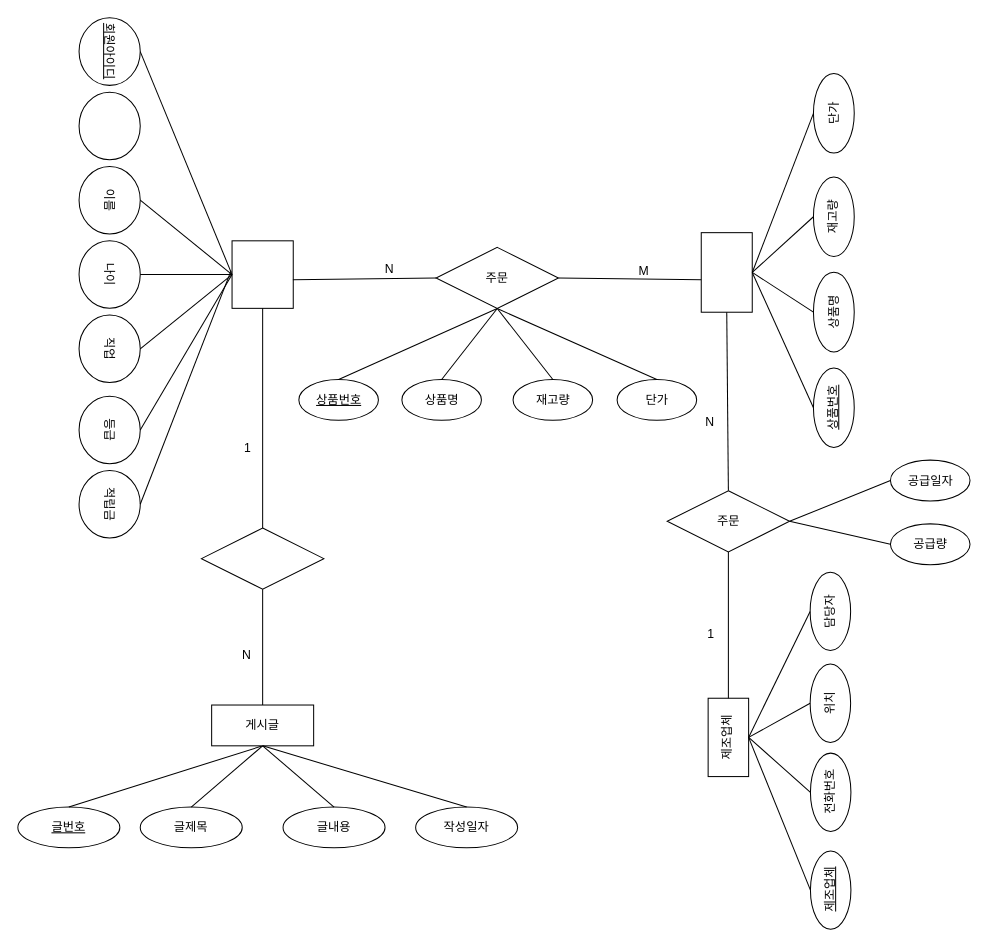
This 988x948 diagram has some shape labels left out. The centre of each missing label's shape, as x and y in pixels:
비밀번호: the point at 109,125
상품: the point at 726,272
작성: the point at 262,558
회원: the point at 262,274
